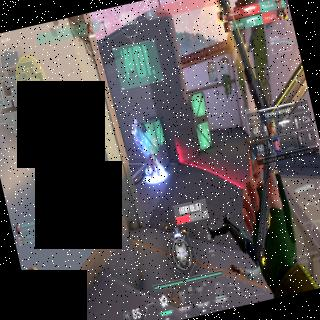ENEMY-BODY: (274, 136, 284, 160), (156, 0, 161, 7)
ENEMY-HEAD: (14, 224, 20, 232)
